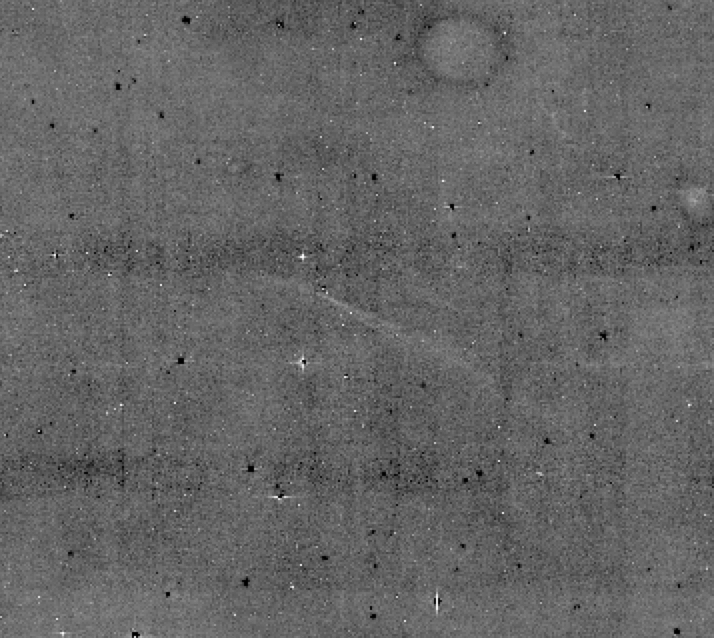Halpha: (230, 247, 611, 456)
